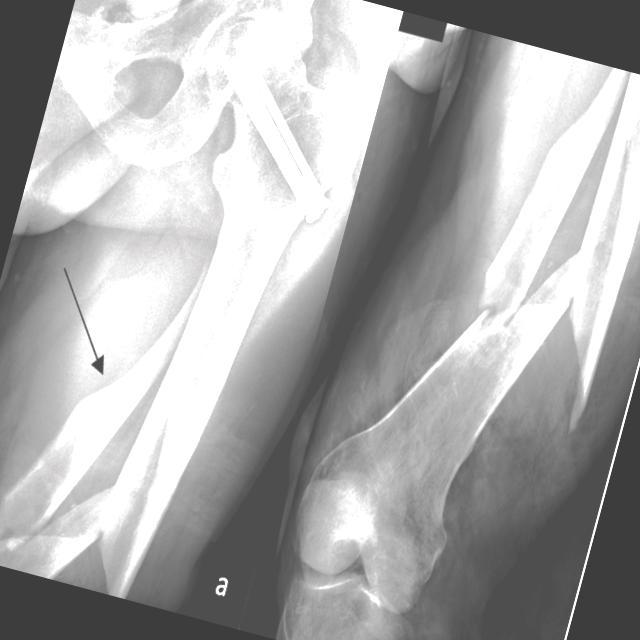Comminuted Fracture: (464, 240, 606, 388)
